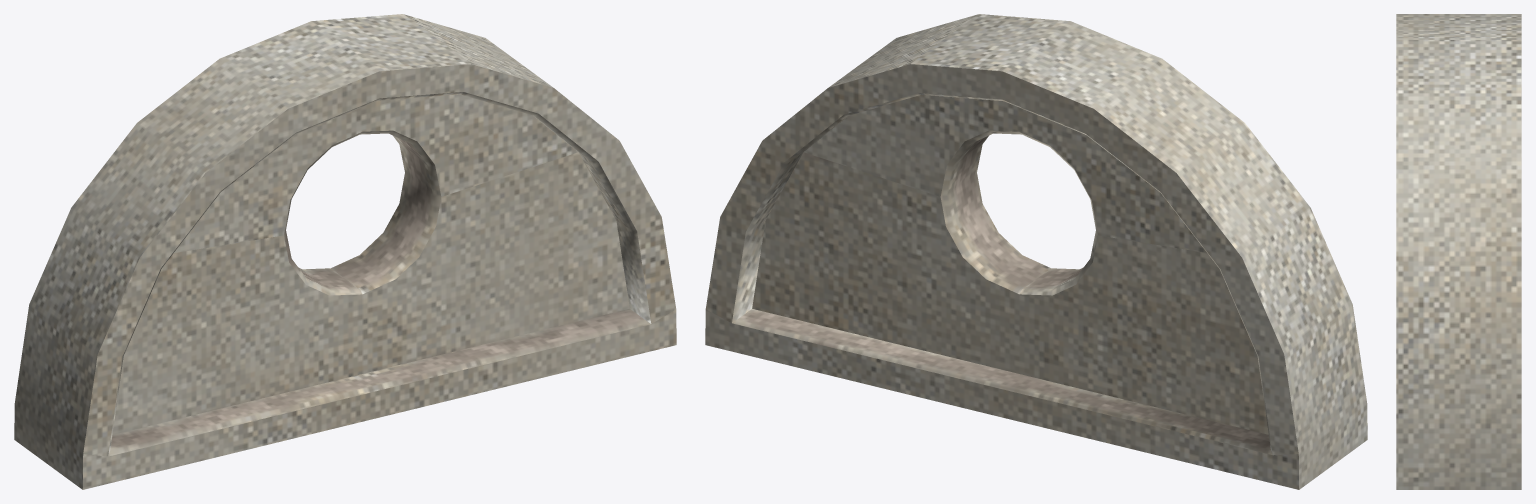
File: RoofArchCapRound.fbx
3 views of the same model, side by side, from view 1: azimuth 30°, elevation 25°; view 2: azimuth 150°, elevation 25°; view 3: azimuth 270°, elevation 25° (orthographic). The views are drawn at different scales.
Visible parts, largest first — view 1: RoofArchCapRound; view 2: RoofArchCapRound; view 3: RoofArchCapRound.
Boxes of the visible parts, bbox=[...] form: RoofArchCapRound: bbox=[14, 14, 676, 489]; RoofArchCapRound: bbox=[705, 14, 1367, 489]; RoofArchCapRound: bbox=[1396, 14, 1521, 489].
Bounding box in the file's own units: 200 × 112 × 40.
Materials: 1 (1 with a texture image).
